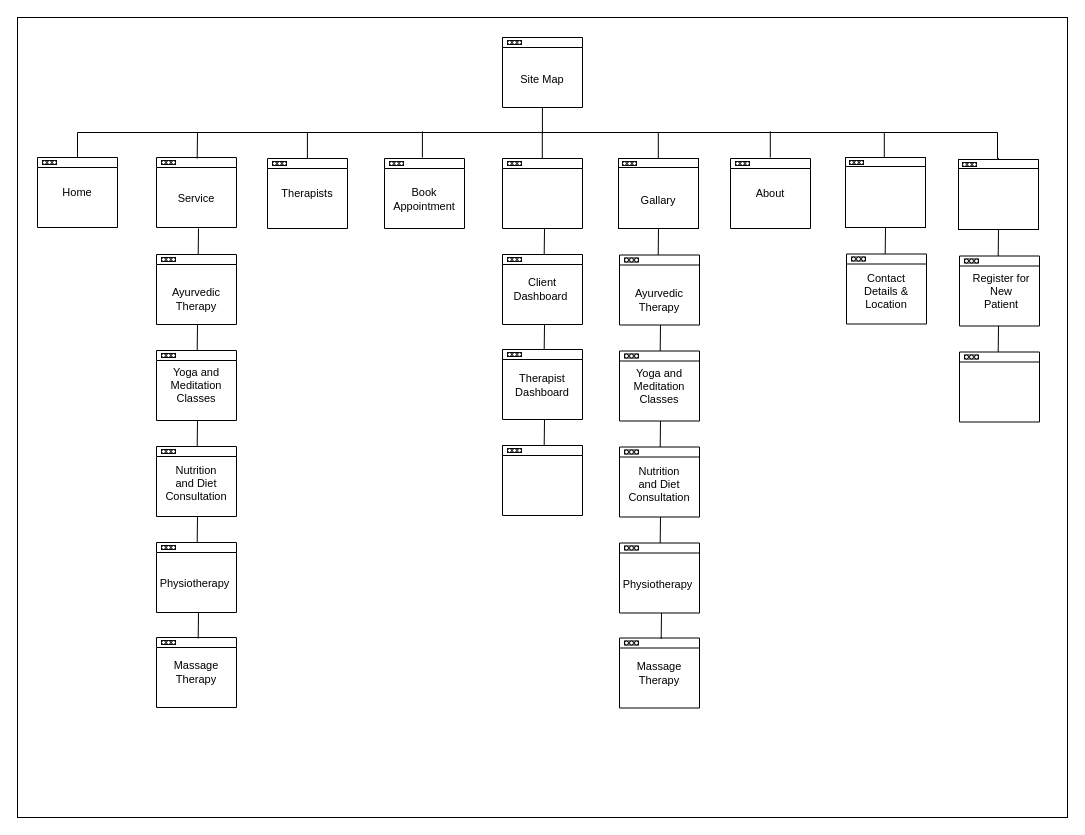
Some shapes in this 1085 by 835 pixel diagram are drawn without their labels. Each missing label, with the centre of its shape:
"Admin Dashboard" belongs at point (542, 480).
"Contact Us" belongs at point (885, 192).
"Dashboard" belongs at point (542, 193).
"Employee Login" belongs at point (999, 386).
"Register / Login" belongs at point (998, 194).
